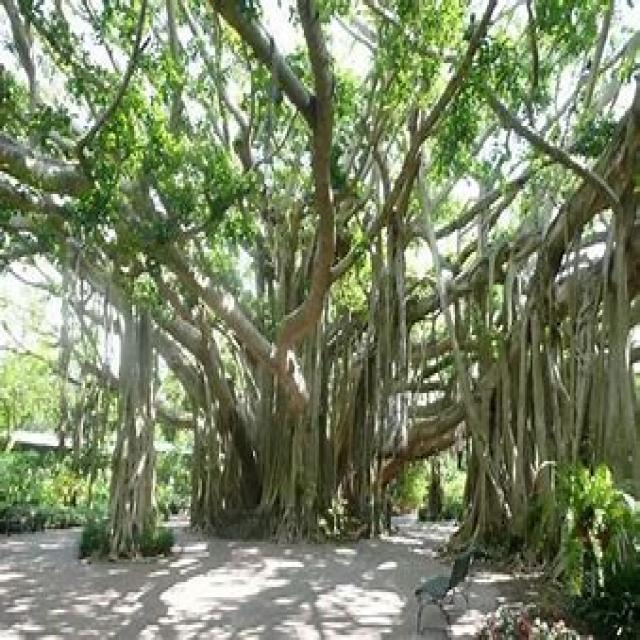Banyan-Tree: (0, 0, 640, 640), (48, 219, 640, 549)
